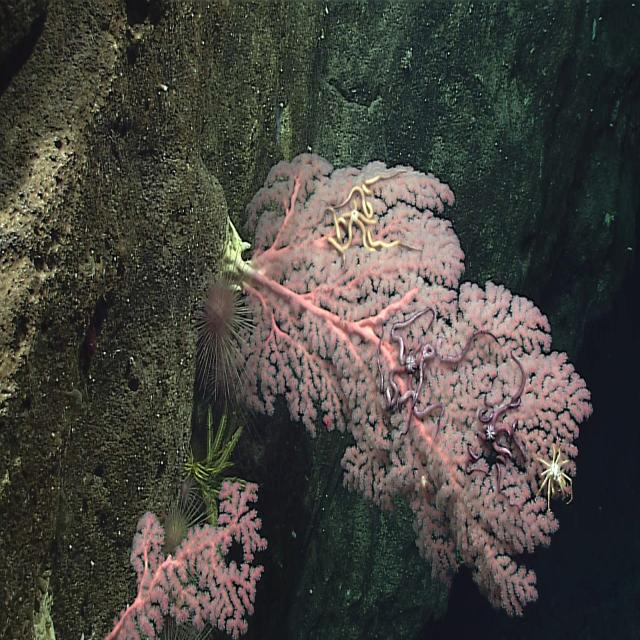Brittle Star: (372, 299, 506, 448), (321, 160, 413, 264)
